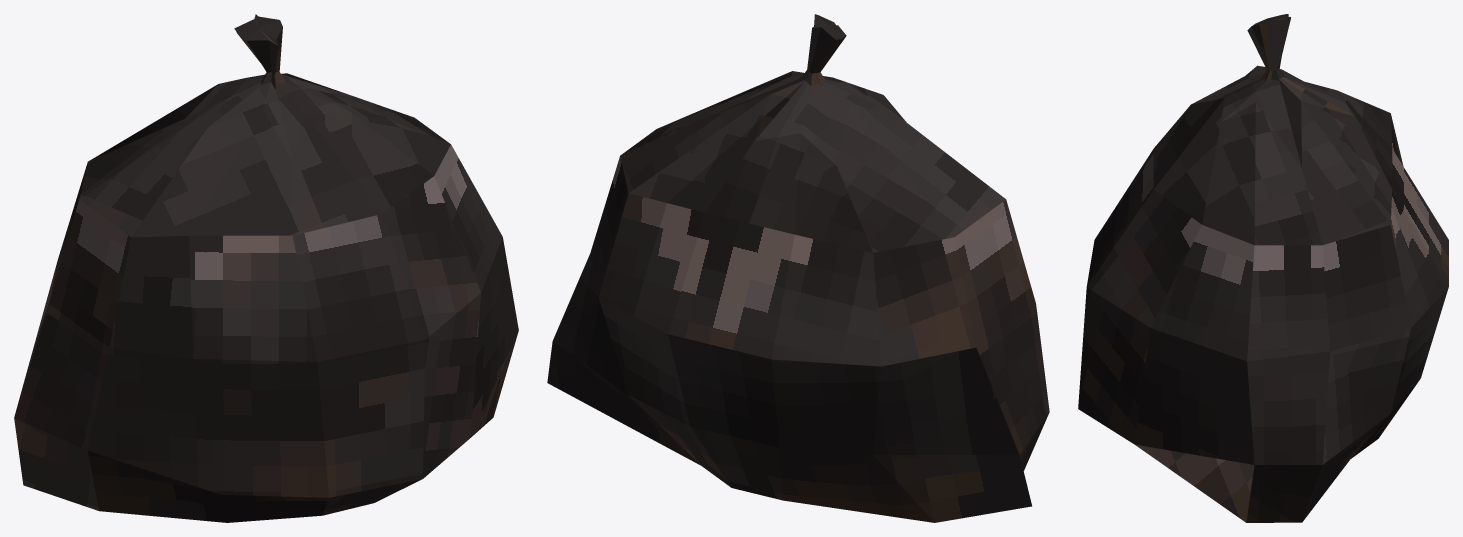
The model's file is Trashbag.gltf.
The picture shows the model from 3 angles, left to right: view 1: azimuth 30°, elevation 25°; view 2: azimuth 150°, elevation 25°; view 3: azimuth 270°, elevation 25°; orthographic projection. The views are drawn at different scales.
Visible parts, largest first — view 1: Trashbag; view 2: Trashbag; view 3: Trashbag.
Boxes of the visible parts, box(x1,y1,x2,y2) form: Trashbag: box(14, 14, 518, 522); Trashbag: box(547, 14, 1049, 522); Trashbag: box(1078, 14, 1448, 522).
Bounding box in the file's own units: 1.26 × 1.08 × 0.8893.
1 material, 1 textured.
